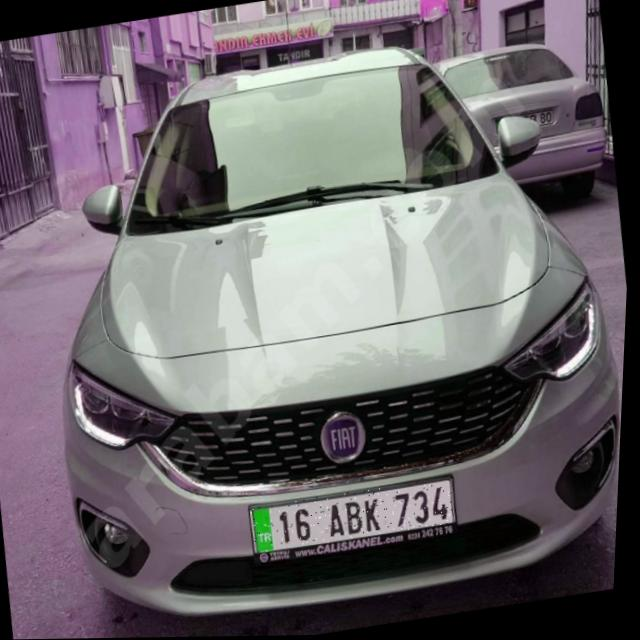license_plate: (253, 477, 463, 555)
